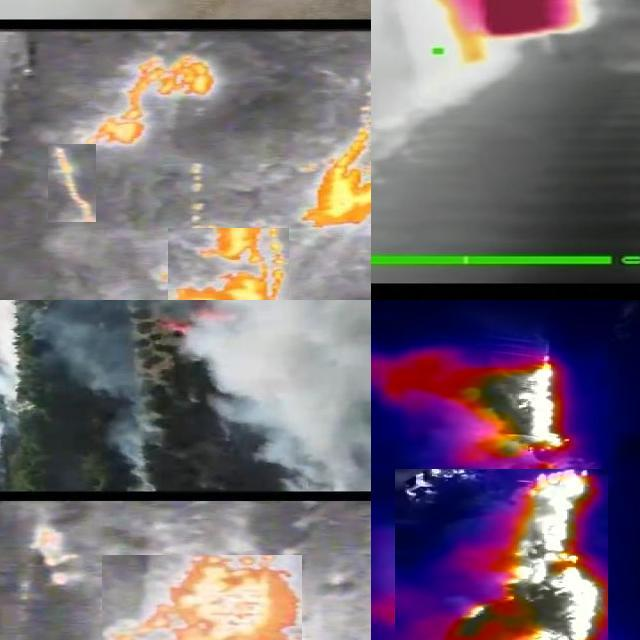fire: (396, 469, 609, 640), (403, 357, 564, 464), (103, 555, 303, 640), (299, 21, 372, 232), (87, 55, 219, 145), (169, 228, 290, 301), (404, 1, 640, 36), (49, 144, 97, 222), (29, 527, 81, 586)
